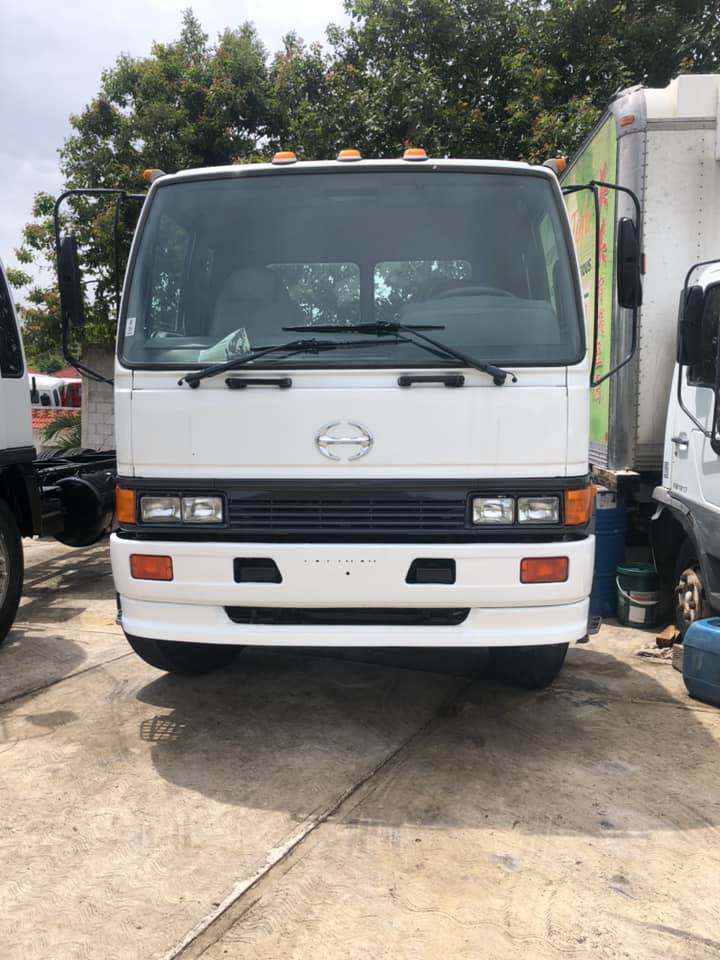camion: (52, 145, 647, 683)
